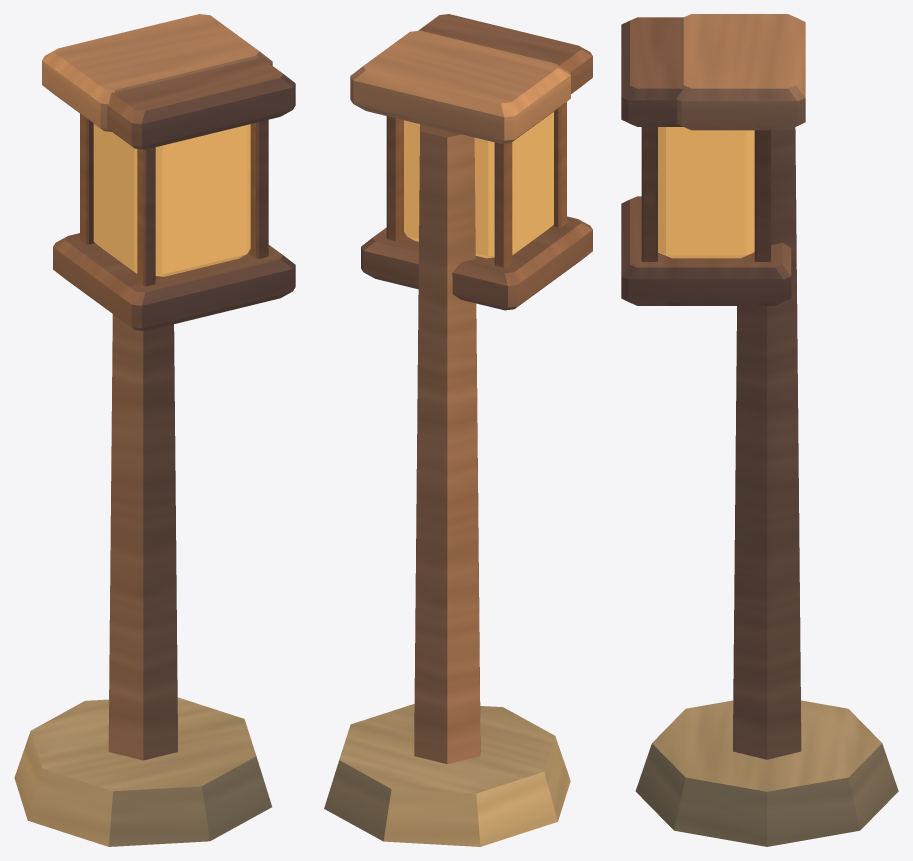
File: furniture_lantern.glb
3 renders of one model, left to right at view 1: azimuth 30°, elevation 25°; view 2: azimuth 150°, elevation 25°; view 3: azimuth 270°, elevation 25°, orthographic. The views are drawn at different scales.
Visible parts, largest first — view 1: Laternenständer; view 2: Laternenständer; view 3: Laternenständer.
Boxes of the visible parts, x1,y1,x2,y2 form: Laternenständer: (14,14,295,846); Laternenständer: (324,14,592,846); Laternenständer: (621,14,898,846).
Bounding box in the file's own units: 0.48 × 1.49 × 0.506.
2 materials, 1 textured.
